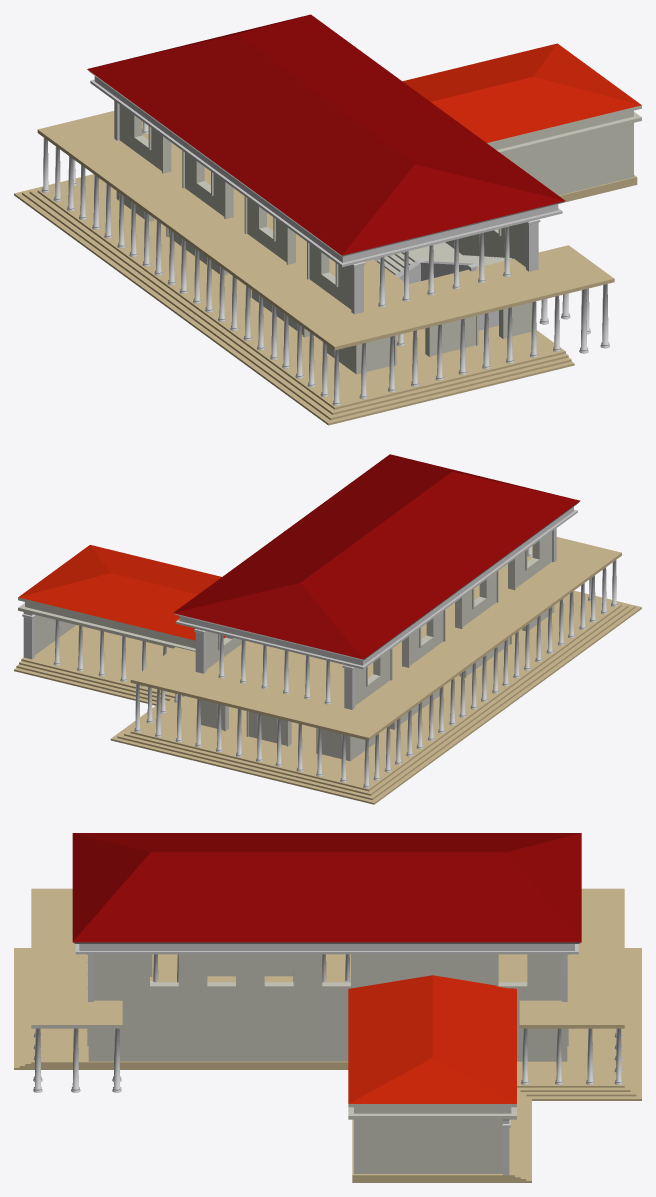
3 renders of one model, top to bottom at view 1: azimuth 30°, elevation 25°; view 2: azimuth 150°, elevation 25°; view 3: azimuth 270°, elevation 25°, orthographic. The views are drawn at different scales.
Parts seen in each view (by area): view 1: Plane_047; view 2: Plane_047; view 3: Plane_047.
Part boxes in pixels (left/top/right/bottom): Plane_047: left=14, top=14, right=641, bottom=425; Plane_047: left=14, top=454, right=641, bottom=804; Plane_047: left=14, top=833, right=641, bottom=1182.
Size of the model in its own units: 26.94 by 9.28 by 30.51.
